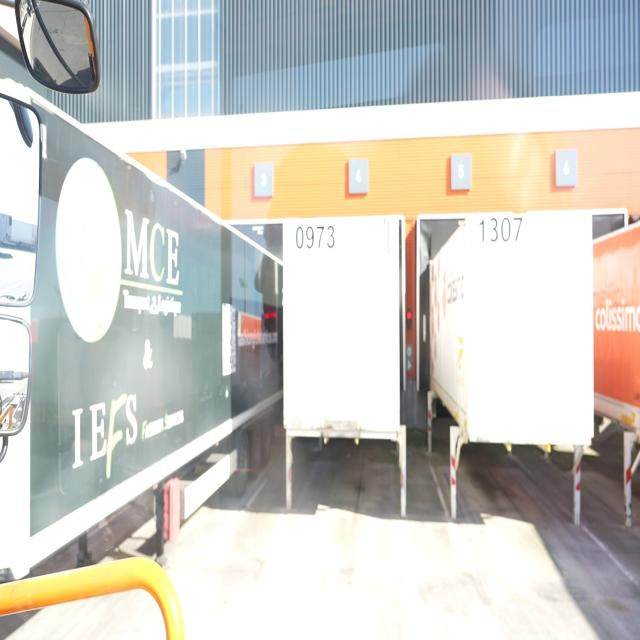Code: (476, 214, 524, 246), (293, 222, 340, 253)
